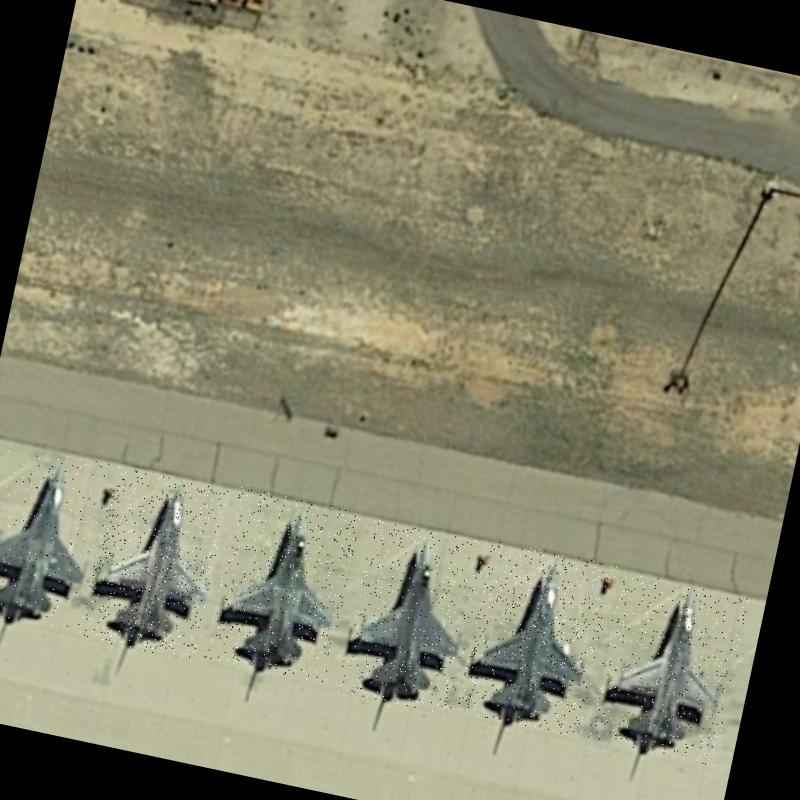A5: (457, 539, 618, 738), (586, 571, 749, 766), (204, 486, 362, 684), (78, 466, 230, 662), (337, 518, 487, 716), (0, 440, 113, 637)
